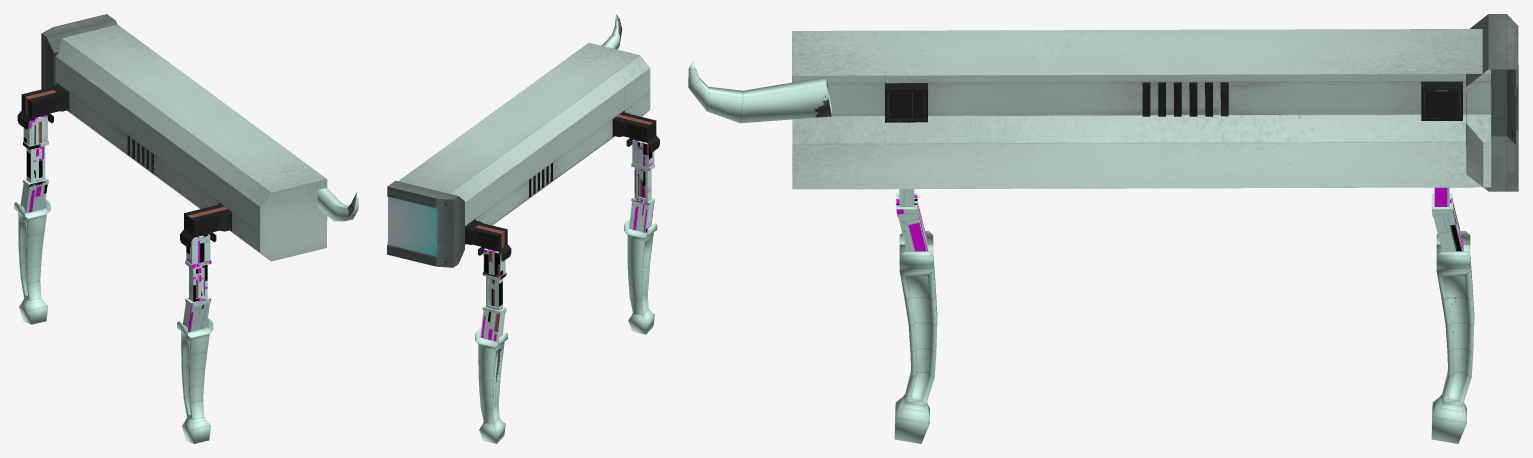
The model's file is Neurodog.glb.
The picture shows the model from 3 angles, left to right: view 1: azimuth 30°, elevation 25°; view 2: azimuth 150°, elevation 25°; view 3: azimuth 270°, elevation 25°; orthographic projection. The views are drawn at different scales.
Visible parts, largest first — view 1: Body, Lower Legs, Middle legs, Upper LEgs, TAil; view 2: Body, Lower Legs, Middle legs, Upper LEgs, TAil; view 3: Body, Lower Legs, TAil, Middle legs, Upper LEgs.
Part boxes in pixels (bbox=[...]): Body: bbox=[41, 14, 327, 261]; Lower Legs: bbox=[14, 199, 213, 443]; Middle legs: bbox=[20, 115, 211, 331]; Upper LEgs: bbox=[17, 87, 231, 248]; TAil: bbox=[317, 188, 358, 221]; Body: bbox=[387, 42, 650, 267]; Lower Legs: bbox=[475, 219, 657, 443]; Middle legs: bbox=[480, 139, 654, 341]; Upper LEgs: bbox=[472, 112, 659, 261]; TAil: bbox=[601, 14, 622, 49]; Body: bbox=[792, 14, 1518, 191]; Lower Legs: bbox=[894, 231, 1474, 443]; TAil: bbox=[688, 61, 831, 123]; Middle legs: bbox=[896, 187, 1463, 251]; Upper LEgs: bbox=[890, 90, 1458, 117].
Bounding box in the file's own units: 0.4015 × 0.9829 × 1.63.
1 material, 1 textured.
